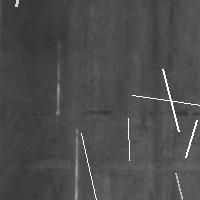scratches: (76, 128, 107, 200), (157, 64, 183, 136), (127, 90, 200, 114), (180, 115, 200, 162), (52, 41, 62, 117), (71, 126, 81, 199), (170, 168, 188, 200), (123, 113, 134, 165), (11, 0, 37, 11)
